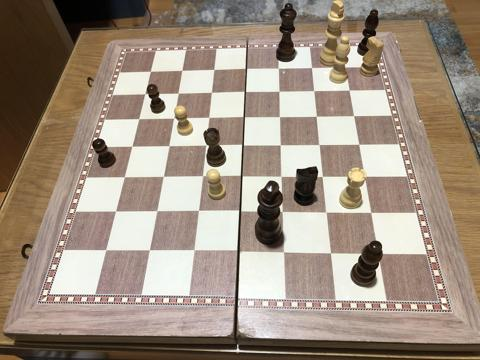xcorner: (340, 62, 352, 75), (272, 63, 284, 76), (173, 65, 186, 77), (308, 86, 321, 98), (238, 87, 251, 99), (204, 87, 216, 100), (136, 88, 148, 101), (349, 111, 361, 124), (311, 112, 324, 124), (274, 112, 287, 124), (238, 112, 250, 125), (201, 113, 214, 125), (165, 113, 178, 125), (130, 113, 142, 126), (237, 140, 249, 153), (123, 141, 136, 153), (360, 172, 373, 184), (318, 172, 331, 184), (367, 207, 379, 220), (322, 207, 335, 219), (192, 207, 205, 219), (150, 206, 162, 219), (108, 206, 120, 219), (327, 247, 339, 260), (280, 247, 293, 259), (234, 246, 246, 259), (188, 246, 201, 258), (143, 246, 156, 258), (306, 63, 318, 75), (239, 64, 251, 76), (206, 65, 218, 77), (141, 66, 153, 78), (344, 86, 356, 98), (273, 87, 285, 99), (170, 88, 182, 100), (354, 140, 366, 152), (315, 140, 327, 152), (276, 140, 288, 152), (199, 141, 211, 153), (161, 141, 173, 153), (277, 172, 289, 184), (236, 172, 248, 184), (196, 172, 208, 184), (156, 172, 168, 184), (116, 172, 128, 184), (279, 207, 291, 219), (235, 207, 247, 219), (375, 248, 387, 260), (99, 245, 111, 257)
